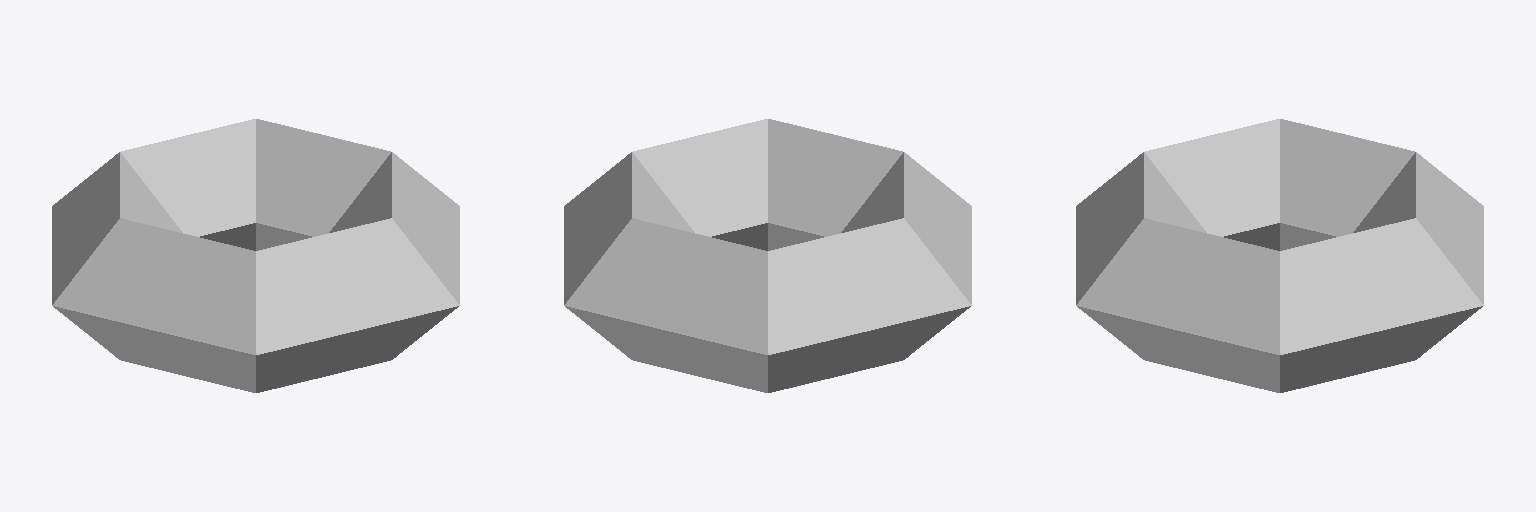
File: explosion_5.obj
3 renders of one model, left to right at view 1: azimuth 30°, elevation 25°; view 2: azimuth 150°, elevation 25°; view 3: azimuth 270°, elevation 25°, orthographic.
Visible parts, largest first — view 1: Sphere; view 2: Sphere; view 3: Sphere.
Part boxes in pixels (x1,y1,x2,y2): Sphere: (52,119,459,392); Sphere: (564,119,971,392); Sphere: (1076,119,1483,392).
Bounding box in the file's own units: 60 × 20 × 51.96.